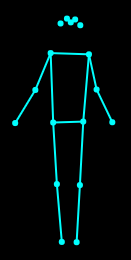mountain: (10, 11, 117, 249)
